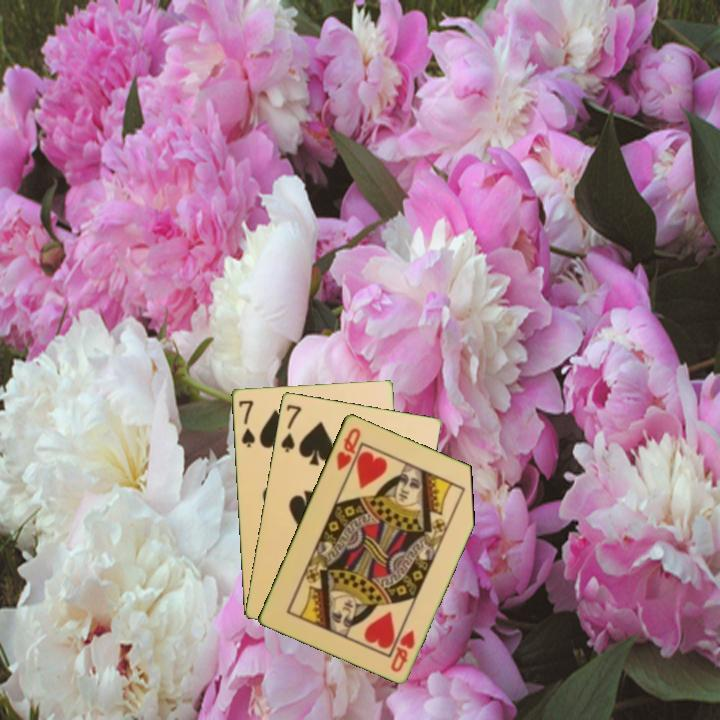7s: (277, 400, 304, 455), (235, 397, 257, 450)
Qh: (332, 424, 363, 473), (387, 626, 418, 675)
